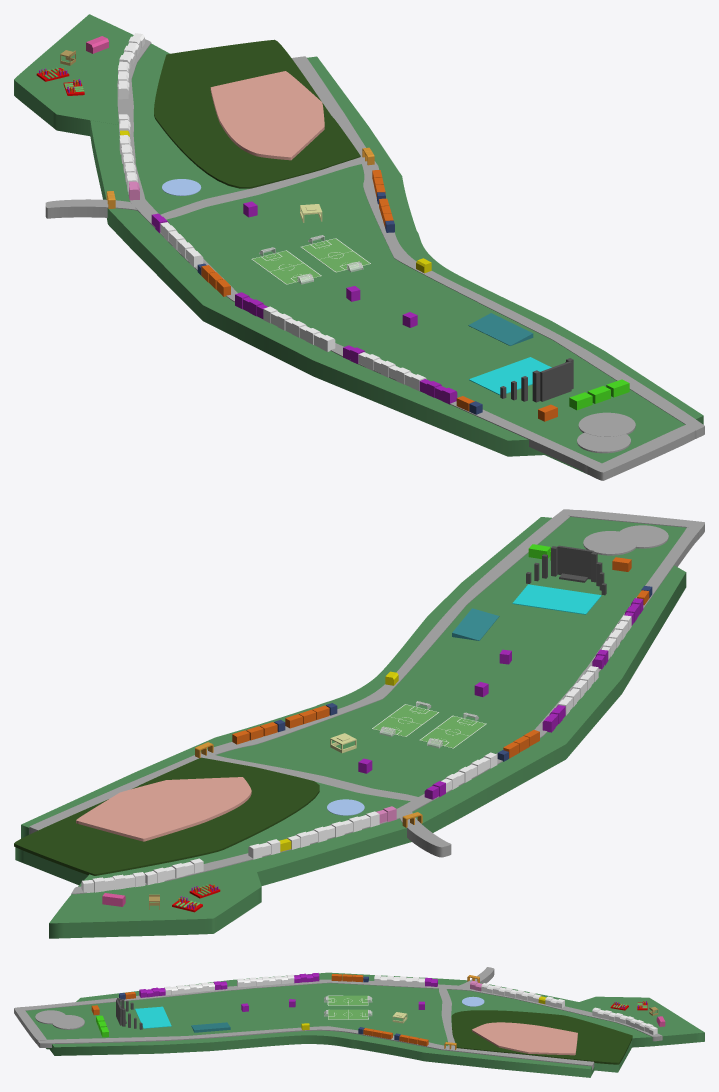
The model's file is venue_optimized.glb.
3 renders of one model, top to bottom at view 1: azimuth 30°, elevation 25°; view 2: azimuth 150°, elevation 25°; view 3: azimuth 270°, elevation 25°, orthographic. The views are drawn at different scales.
Visible parts, largest first — view 1: BézierCurve, BézierCurve.009, BézierCurve.001, BézierCurve.002, BézierCurve.005, BézierCurve.010, BézierCurve.007, BézierCurve.003, BézierCurve.008, Cylinder, Cube.107, BézierCurve.004 (+5 smaller); view 2: BézierCurve, BézierCurve.009, BézierCurve.001, BézierCurve.002, BézierCurve.005, BézierCurve.007, BézierCurve.010, BézierCurve.003, Cube.107, Cylinder, Cube.058, BézierCurve.004 (+5 smaller); view 3: BézierCurve, BézierCurve.010, BézierCurve.001, BézierCurve.002, BézierCurve.007, BézierCurve.005, BézierCurve.003, BézierCurve.009, Cylinder, Cube.058, BézierCurve.004, BézierCurve.008 (+5 smaller).
Part boxes in pixels (left/top/right/bottom): BézierCurve: left=131, top=56, right=685, bottom=474; BézierCurve.009: left=90, top=120, right=544, bottom=456; BézierCurve.001: left=154, top=39, right=360, bottom=188; BézierCurve.002: left=14, top=14, right=325, bottom=203; BézierCurve.005: left=210, top=71, right=324, bottom=160; BézierCurve.010: left=307, top=56, right=703, bottom=424; BézierCurve.007: left=291, top=56, right=704, bottom=438; BézierCurve.003: left=117, top=39, right=601, bottom=473; BézierCurve.008: left=583, top=424, right=695, bottom=480; Cylinder: left=577, top=412, right=635, bottom=453; Cube.107: left=500, top=358, right=573, bottom=402; BézierCurve.004: left=160, top=157, right=364, bottom=219; BézierCurve: left=15, top=516, right=686, bottom=885; BézierCurve.009: left=253, top=565, right=686, bottom=885; BézierCurve.001: left=14, top=757, right=319, bottom=875; BézierCurve.002: left=49, top=755, right=341, bottom=938; BézierCurve.005: left=76, top=777, right=251, bottom=841; BézierCurve.007: left=29, top=509, right=575, bottom=834; BézierCurve.010: left=21, top=517, right=551, bottom=838; BézierCurve.003: left=71, top=527, right=698, bottom=894; Cube.107: left=526, top=545, right=606, bottom=595; Cylinder: left=583, top=525, right=668, bottom=555; Cube.058: left=512, top=584, right=601, bottom=614; BézierCurve.004: left=203, top=754, right=421, bottom=801; BézierCurve: left=26, top=983, right=635, bottom=1072; BézierCurve.010: left=49, top=1030, right=594, bottom=1077; BézierCurve.001: left=451, top=1010, right=632, bottom=1064; BézierCurve.002: left=430, top=996, right=704, bottom=1047; BézierCurve.007: left=37, top=1026, right=594, bottom=1069; BézierCurve.005: left=472, top=1022, right=577, bottom=1055; BézierCurve.003: left=25, top=979, right=662, bottom=1041; BézierCurve.009: left=76, top=972, right=578, bottom=1006; Cylinder: left=35, top=1010, right=84, bottom=1029; Cube.058: left=135, top=1006, right=171, bottom=1028; BézierCurve.004: left=439, top=987, right=455, bottom=1047; BézierCurve.008: left=14, top=1006, right=46, bottom=1044.
Size of the model in its own units: 95.4 by 11.45 by 275.
